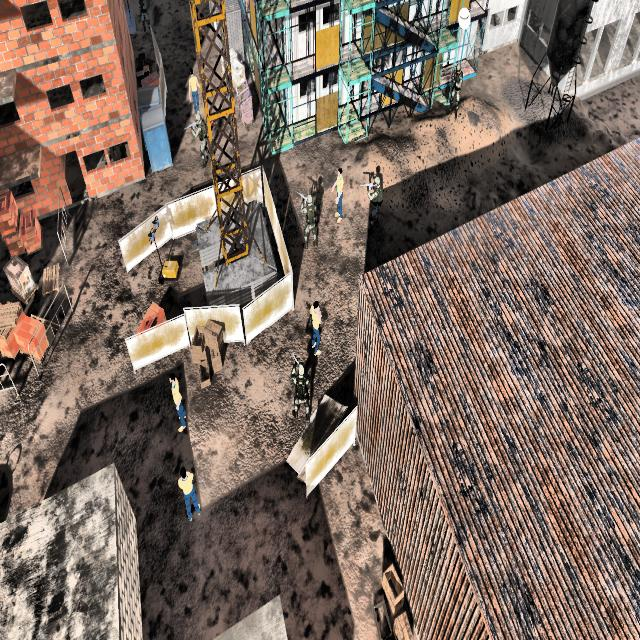bad: (286, 350, 312, 430), (361, 160, 386, 235), (297, 186, 321, 254), (446, 56, 466, 130), (190, 103, 210, 168)
good: (175, 456, 206, 532), (161, 368, 189, 440), (304, 294, 325, 362), (184, 61, 204, 119), (329, 162, 345, 228)
